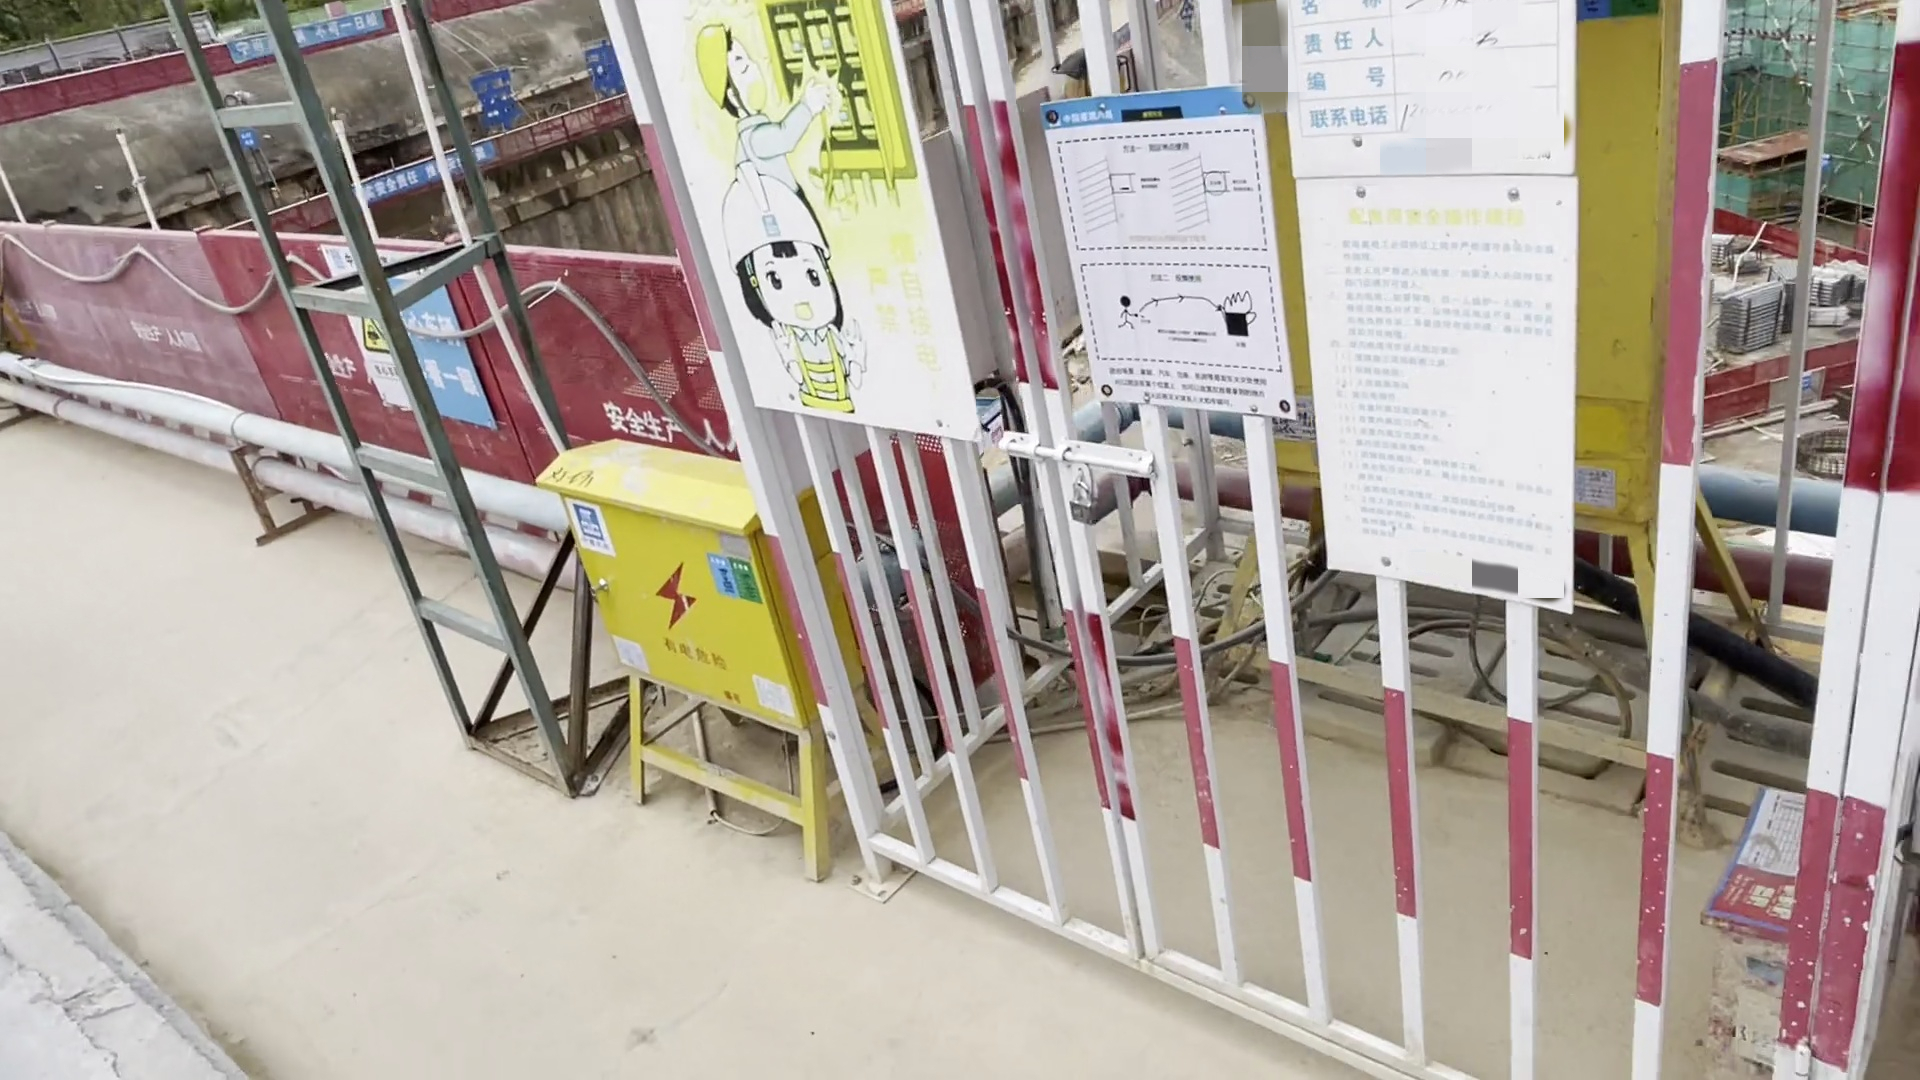ebox: (530, 415, 849, 891)
fence: (8, 208, 740, 455)
slogan: (624, 1, 986, 450), (318, 247, 517, 429)
